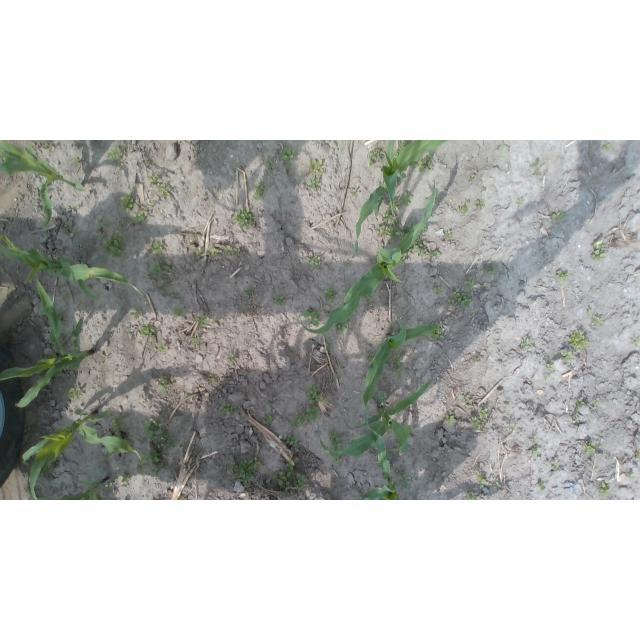Maize: (298, 177, 436, 335), (353, 140, 505, 254), (0, 268, 96, 411), (21, 407, 147, 500), (314, 379, 432, 462), (1, 235, 148, 298), (359, 315, 441, 427), (0, 140, 84, 228), (357, 422, 398, 500), (35, 474, 110, 500)
Weeds: (143, 418, 179, 450), (414, 226, 441, 263), (97, 232, 127, 261), (231, 457, 261, 485), (378, 218, 409, 240), (141, 450, 166, 477), (292, 407, 319, 429), (232, 207, 253, 230), (569, 330, 589, 351), (107, 144, 125, 167), (454, 289, 473, 310), (410, 154, 432, 172), (590, 239, 607, 262), (328, 428, 345, 451), (425, 322, 445, 341), (252, 182, 271, 201), (150, 261, 171, 278), (303, 309, 320, 328), (272, 471, 290, 488), (279, 147, 297, 164), (307, 385, 323, 404), (546, 209, 566, 224), (120, 192, 134, 213), (393, 141, 408, 160), (397, 191, 413, 208), (398, 247, 413, 265), (66, 387, 82, 403), (112, 415, 123, 438), (382, 202, 394, 223), (221, 244, 242, 256), (140, 323, 156, 338), (150, 240, 166, 255), (324, 284, 337, 302), (293, 473, 308, 488), (195, 312, 209, 328), (157, 182, 171, 198), (308, 254, 322, 270), (368, 150, 381, 167), (286, 433, 301, 447), (309, 159, 323, 174), (219, 403, 235, 416), (285, 457, 299, 471), (335, 321, 350, 334), (133, 211, 148, 224), (561, 351, 576, 364), (485, 263, 500, 276), (599, 482, 611, 498), (476, 471, 486, 488), (130, 307, 143, 320), (155, 340, 167, 354), (470, 415, 482, 429), (308, 176, 320, 190), (146, 174, 158, 187), (206, 246, 219, 258), (399, 476, 411, 489), (537, 482, 549, 495), (585, 441, 596, 455), (575, 397, 587, 409), (63, 221, 74, 234), (556, 271, 569, 282), (160, 376, 169, 391), (445, 411, 455, 424), (464, 277, 474, 290), (529, 447, 542, 457), (193, 248, 204, 259), (478, 408, 489, 419), (173, 306, 183, 318), (458, 201, 468, 213), (103, 481, 113, 492), (273, 295, 284, 305), (592, 316, 603, 326), (266, 160, 276, 171), (461, 394, 472, 404), (122, 472, 131, 484), (227, 353, 235, 366), (434, 284, 444, 294), (393, 368, 404, 377), (394, 355, 403, 366), (522, 338, 531, 349), (265, 414, 274, 424), (604, 141, 613, 151), (545, 364, 555, 373), (552, 460, 560, 471), (44, 463, 56, 470), (631, 337, 640, 346), (448, 299, 457, 308), (244, 287, 254, 295), (466, 492, 476, 500), (628, 473, 638, 481), (208, 374, 215, 385), (594, 398, 602, 407), (126, 433, 133, 443), (326, 340, 333, 350), (573, 409, 580, 419), (475, 200, 486, 206), (100, 220, 108, 228), (61, 291, 69, 299), (350, 188, 358, 196), (148, 200, 156, 208), (517, 198, 524, 207), (532, 436, 539, 445), (366, 355, 374, 362), (330, 377, 338, 384), (192, 335, 199, 343), (172, 291, 180, 298), (73, 157, 81, 164), (494, 482, 502, 489), (48, 351, 57, 357), (531, 161, 540, 167), (201, 193, 206, 203), (105, 453, 112, 460), (444, 231, 451, 238), (212, 316, 218, 324), (42, 143, 50, 149), (365, 294, 371, 302), (636, 449, 640, 460), (71, 204, 78, 210), (587, 309, 593, 316), (509, 423, 515, 430), (332, 458, 340, 463), (265, 401, 273, 406), (469, 174, 475, 180), (409, 221, 415, 227), (545, 375, 552, 380), (326, 312, 332, 317), (161, 280, 167, 285), (334, 140, 339, 146), (75, 231, 81, 235), (191, 234, 196, 238), (134, 203, 139, 207), (482, 186, 487, 190), (368, 406, 371, 411), (425, 199, 429, 202)
